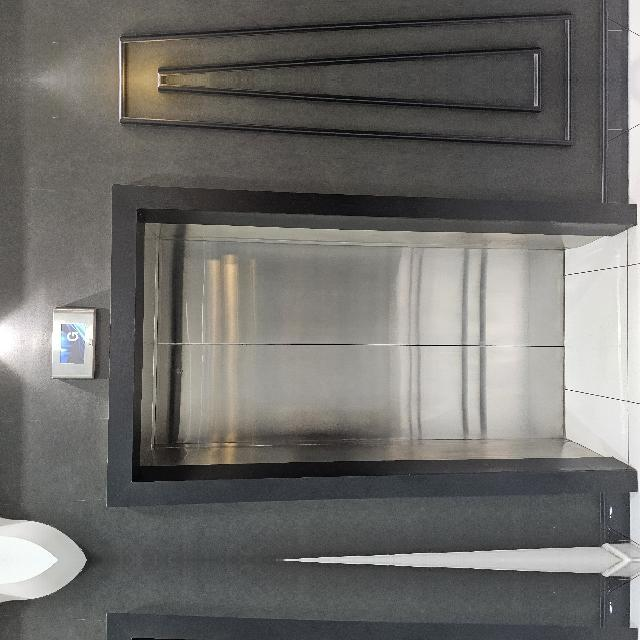door: (43, 181, 390, 640), (43, 403, 390, 640)
